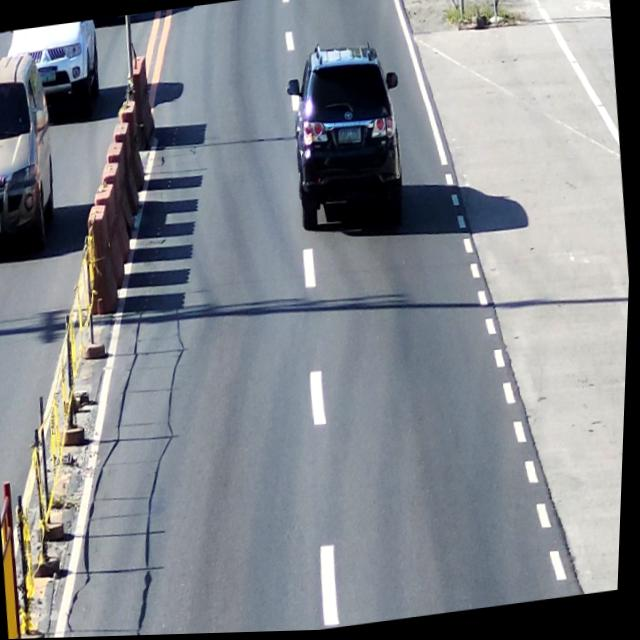Car: (280, 38, 417, 241), (0, 49, 70, 256), (1, 20, 106, 116)
License-Plate: (31, 64, 61, 88), (336, 125, 364, 148), (0, 214, 6, 239)
